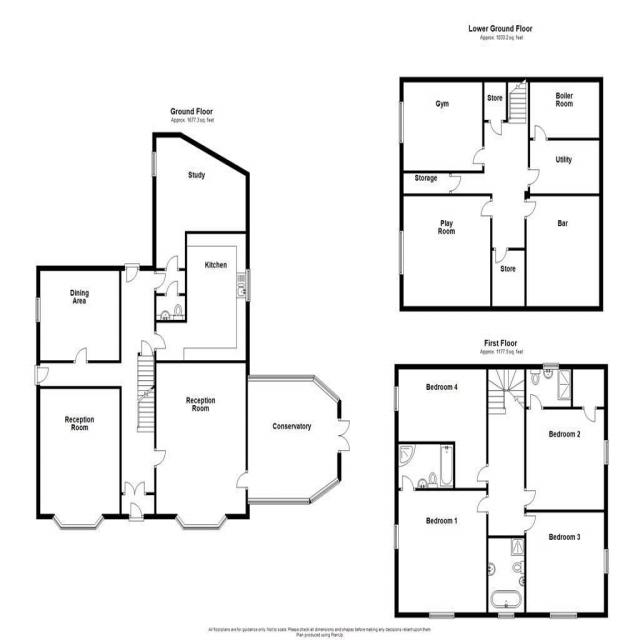DOOR: (34, 364, 49, 386), (128, 502, 144, 522), (124, 263, 140, 283), (472, 145, 485, 167), (480, 198, 493, 219), (528, 393, 544, 410), (400, 474, 416, 491), (533, 124, 549, 141), (524, 487, 536, 509), (476, 462, 488, 484), (524, 198, 536, 220), (154, 447, 166, 469), (154, 330, 166, 352), (154, 270, 166, 292), (73, 347, 89, 363), (164, 280, 180, 296), (164, 255, 180, 271), (524, 513, 536, 534), (476, 494, 488, 515), (528, 167, 540, 188), (236, 469, 248, 490), (582, 406, 597, 422)
DOUBLE DOOR: (337, 418, 351, 454), (123, 481, 147, 495)
ROOM: (154, 360, 250, 531), (236, 374, 351, 506), (151, 131, 251, 272), (394, 475, 489, 620), (154, 230, 251, 364), (36, 386, 122, 531), (394, 364, 489, 491), (399, 193, 493, 312), (524, 393, 609, 513), (524, 193, 604, 312), (524, 509, 609, 620), (35, 265, 122, 364), (398, 76, 485, 174), (528, 77, 603, 141)
WINDOW: (247, 374, 342, 405), (247, 476, 341, 506), (174, 513, 229, 531), (51, 513, 105, 531), (398, 230, 404, 275), (549, 611, 578, 620), (398, 101, 404, 144), (428, 611, 455, 620), (245, 269, 251, 302), (34, 297, 41, 323), (151, 150, 157, 178), (603, 439, 609, 466), (393, 523, 399, 550), (497, 611, 515, 620), (603, 548, 609, 574), (542, 362, 559, 370), (394, 385, 399, 412)
